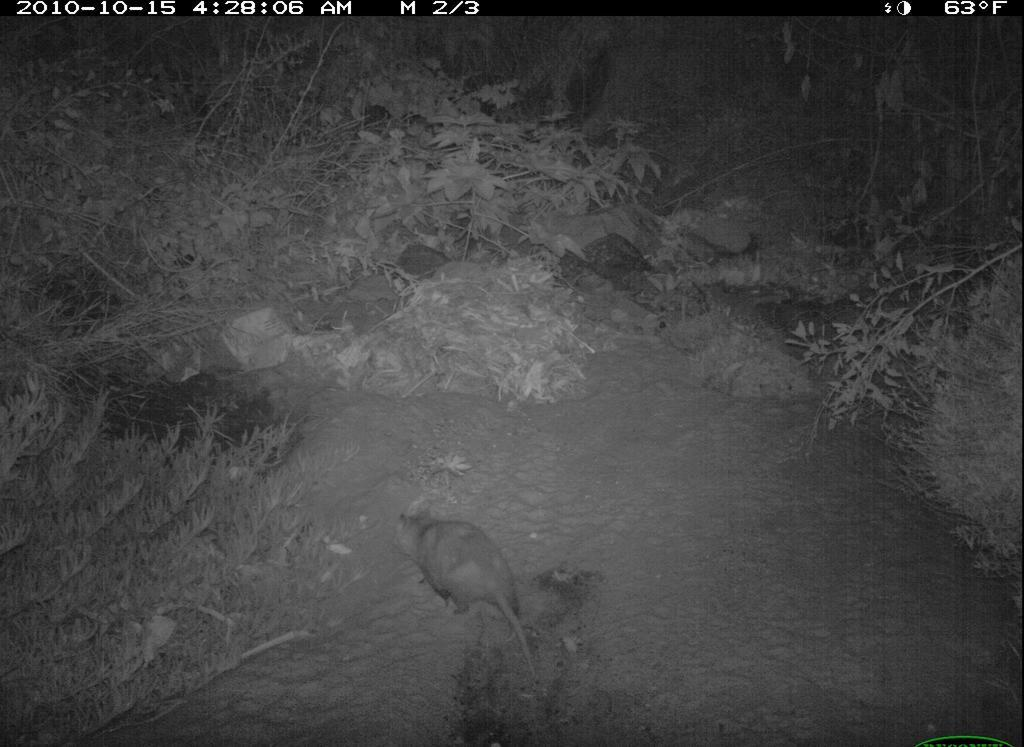opossum: (374, 504, 560, 681)
